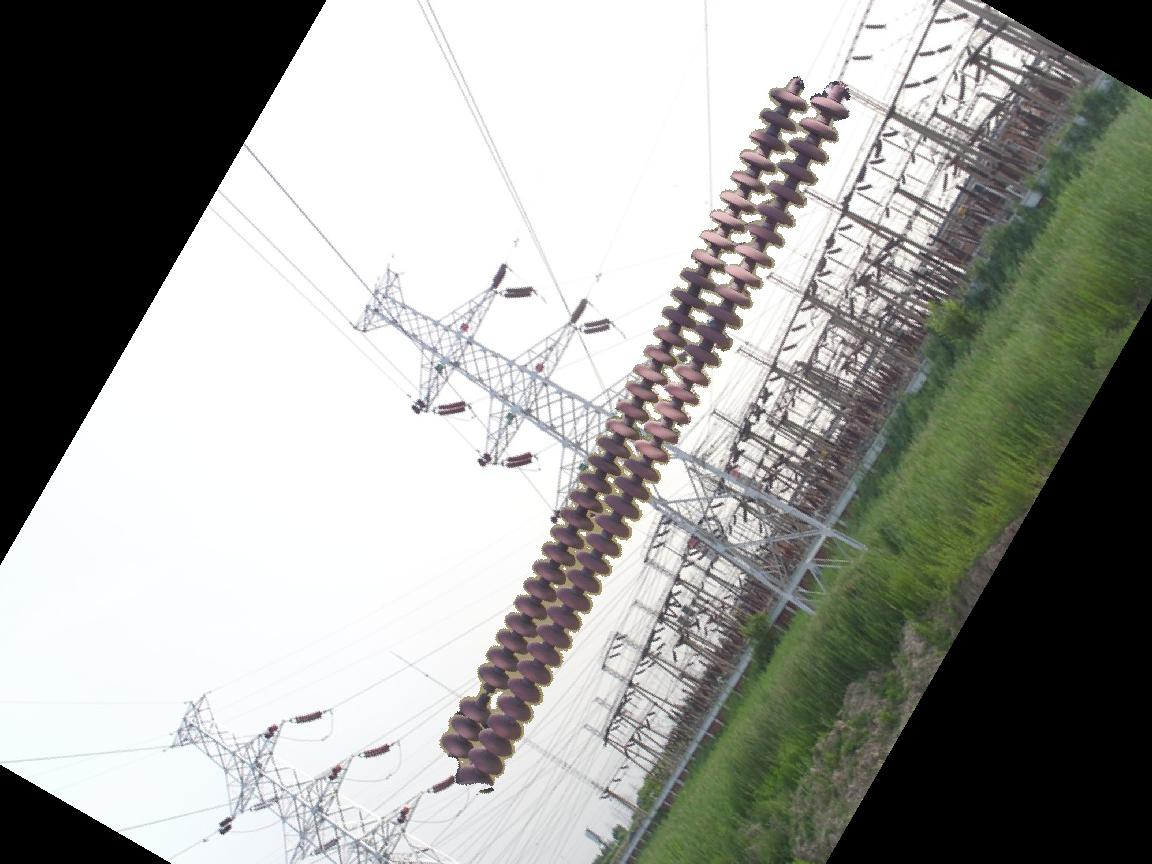insulator: (436, 73, 847, 791)
insulator_stringdrop: (455, 662, 515, 724)
